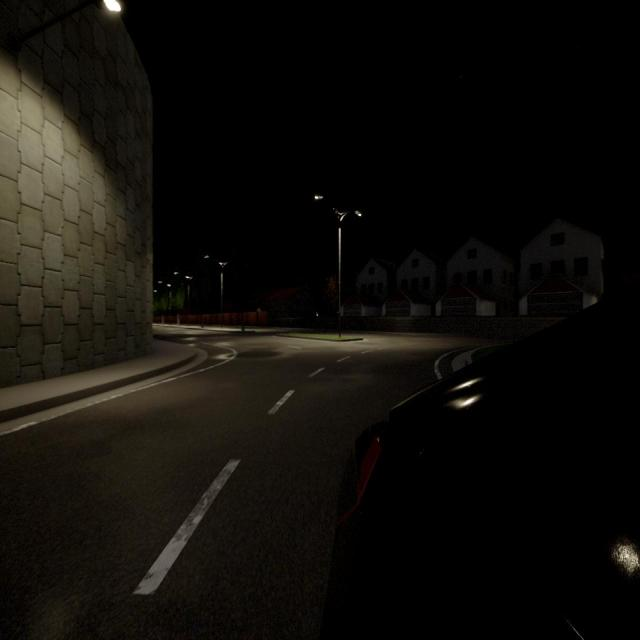Vehicle: (326, 302, 640, 638)
